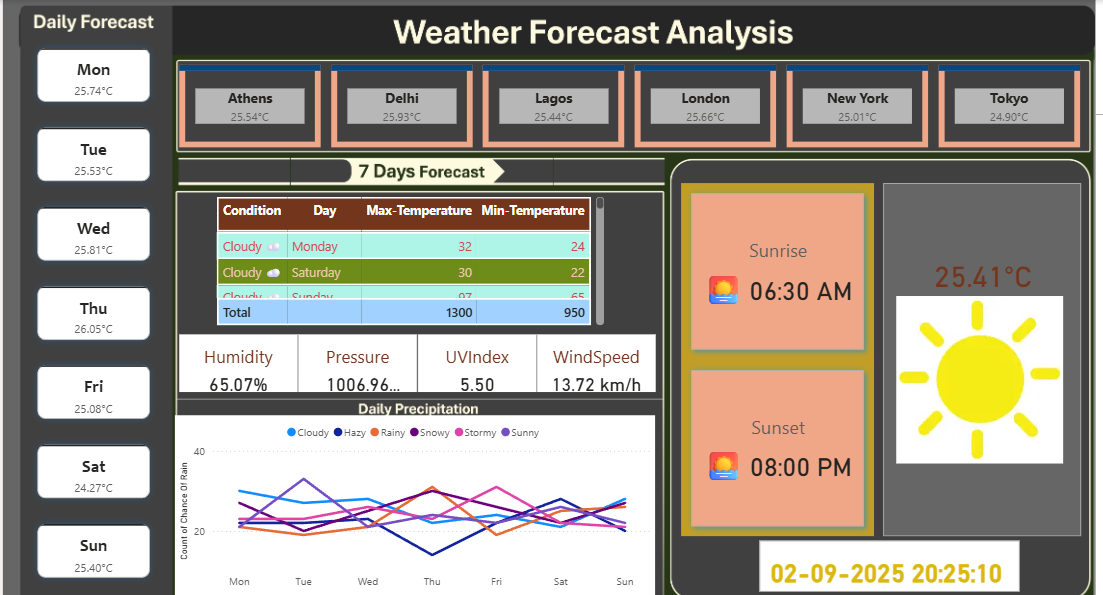

The page's visual inventory and layout, read from the dashboard file:
{"tool":"powerbi","page":{"name":"Page 1","canvas":[1280,720],"ordinal":0},"visuals":[{"type":"advancedSlicerVisual","fields":{"Values":["Weather.City"]},"box":[200.9,70.5,1068.2,107.8],"z":0},{"type":"advancedSlicerVisual","fields":{"Values":["Weather.Weekday"]},"box":[23.9,39.9,165,659.8],"z":1000},{"type":"tableEx","fields":{"Values":["Forecast7Days.Condition","Forecast7Days.Day","Sum(Forecast7Days.Temp_Max)","Sum(Forecast7Days.Temp_Min)"]},"box":[244.8,226.2,464.3,161],"z":2000},{"type":"cardVisual","fields":{"Data":["All DAX.Humidity","All DAX.Pressure","All DAX.UVIndex","All DAX.WindSpeed"]},"box":[201.5,386.8,572.2,79],"z":3000},{"type":"cardVisual","fields":{"Data":["Min(Weather.1.SunriseNew)","Min(Weather.SunsetNew)"]},"box":[790.2,210.2,236.8,424.4],"z":4000},{"type":"cardVisual","fields":{"Data":["All DAX.Temp"]},"box":[1027,210.2,242.1,424.4],"z":5000},{"type":"cardVisual","fields":{"Data":["All DAX.CurrentTime"]},"box":[881.6,628.6,315.9,70.9],"z":6000},{"type":"lineChart","fields":{"Y":["CountNonNull(Weather.Chance Of Rain)"],"Series":["Weather.Weather_Condition"],"Category":["Weather.Weekday"]},"box":[200.9,486.9,562.7,212.9],"z":7000}]}

Visuals, with their boxes in screenshot pixels (x1, y1, x2, y2):
advancedSlicerVisual - Weather.City: detection(184, 60, 1086, 151)
advancedSlicerVisual - Weather.Weekday: detection(35, 34, 174, 591)
tableEx - Forecast7Days.Condition x Forecast7Days.Day: detection(221, 191, 613, 327)
cardVisual - All DAX.Humidity x All DAX.Pressure: detection(184, 327, 668, 393)
cardVisual - Min(Weather.1.SunriseNew) x Min(Weather.SunsetNew): detection(682, 177, 881, 536)
cardVisual - All DAX.Temp: detection(881, 177, 1086, 536)
cardVisual - All DAX.CurrentTime: detection(759, 531, 1025, 591)
lineChart - CountNonNull(Weather.Chance Of Rain) x Weather.Weather_Condition: detection(184, 411, 659, 591)
